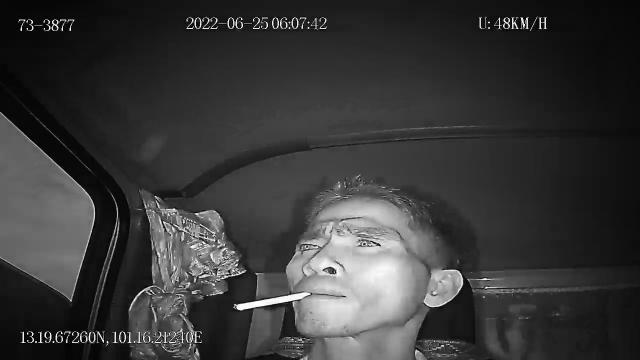SafeDriving: (342, 228, 388, 253), (290, 234, 326, 258)
Smoking: (234, 289, 312, 313)
